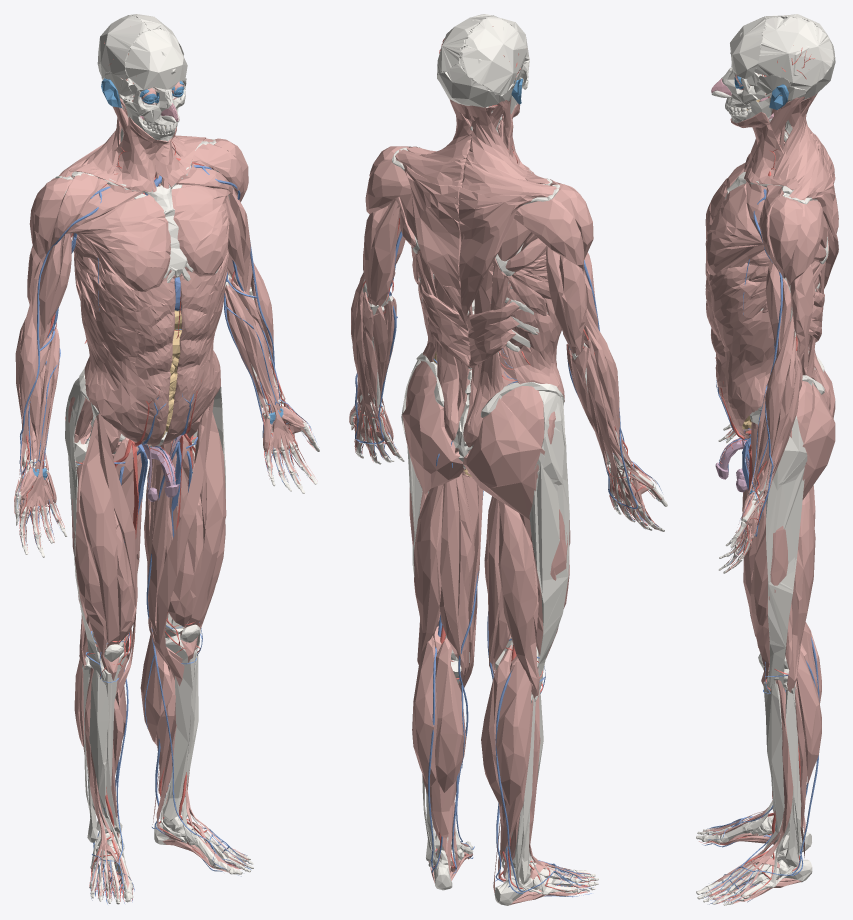
File: body.glb
The picture shows the model from 3 angles, left to right: view 1: azimuth 30°, elevation 25°; view 2: azimuth 150°, elevation 25°; view 3: azimuth 270°, elevation 25°; orthographic projection. The views are drawn at different scales.
Parts seen in each view (by area): view 1: muscular-11, skeletal-1, skeletal-0, venous-13, arterial-12, reproductive-8, sensory-9, digestive-4; view 2: muscular-11, skeletal-1, skeletal-0, venous-13, arterial-12; view 3: muscular-11, skeletal-0, skeletal-1, venous-13, arterial-12, reproductive-8, sensory-9.
Boxes of the visible parts, x1,y1,x2,y2 form: muscular-11: (14, 81, 313, 898); skeletal-1: (15, 14, 314, 899); skeletal-0: (15, 29, 319, 904); venous-13: (17, 165, 319, 904); arterial-12: (18, 43, 315, 901); reproductive-8: (141, 424, 192, 501); sensory-9: (32, 78, 283, 479); digestive-4: (143, 119, 181, 437); muscular-11: (349, 98, 662, 905); skeletal-1: (350, 14, 661, 905); skeletal-0: (351, 15, 667, 893); venous-13: (355, 230, 662, 897); arterial-12: (352, 26, 657, 893); muscular-11: (703, 74, 838, 903); skeletal-0: (696, 16, 824, 905); skeletal-1: (702, 14, 835, 904); venous-13: (702, 189, 819, 904); arterial-12: (699, 45, 814, 903); reproductive-8: (715, 428, 751, 492); sensory-9: (734, 76, 788, 494).
Bounding box in the file's own units: 0.6478 × 1.71 × 0.2598.
